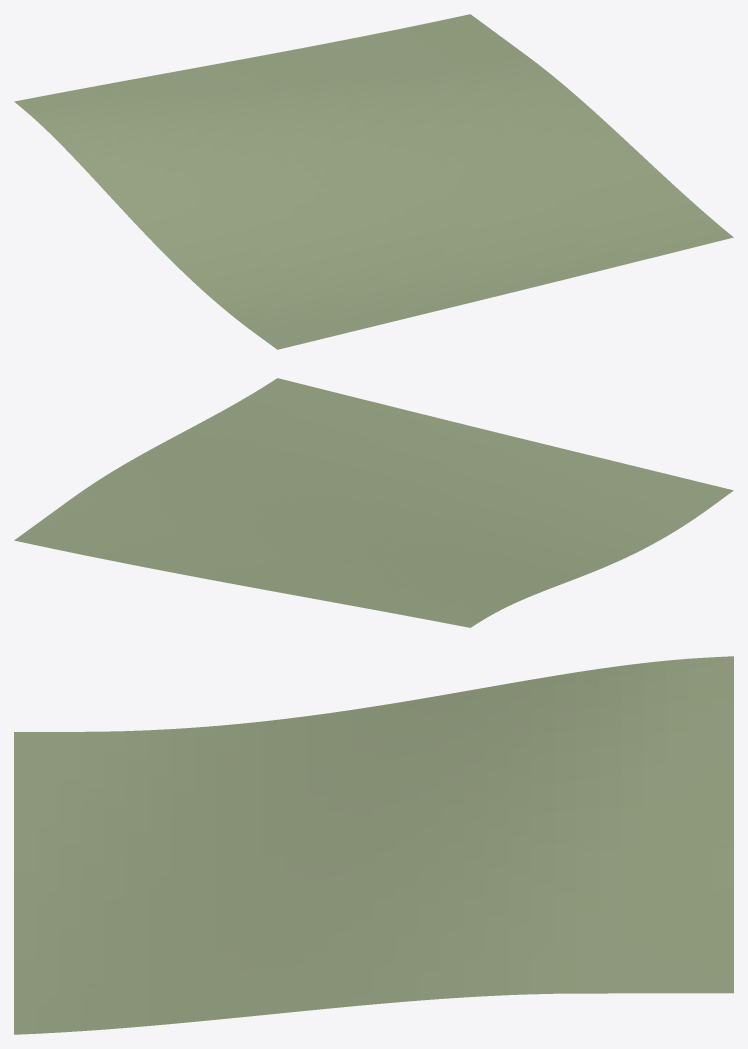
File: valley-12-7.glb
3 views of the same model, one above another, from view 1: azimuth 30°, elevation 25°; view 2: azimuth 150°, elevation 25°; view 3: azimuth 270°, elevation 25° (orthographic). The views are drawn at different scales.
Parts seen in each view (by area): view 1: valley-12-7; view 2: valley-12-7; view 3: valley-12-7.
Boxes of the visible parts, <box> form: valley-12-7: <box>14,14,733,349</box>; valley-12-7: <box>14,378,733,627</box>; valley-12-7: <box>14,656,733,1034</box>.
Bounding box in the file's own units: 256 × 29.69 × 256.
